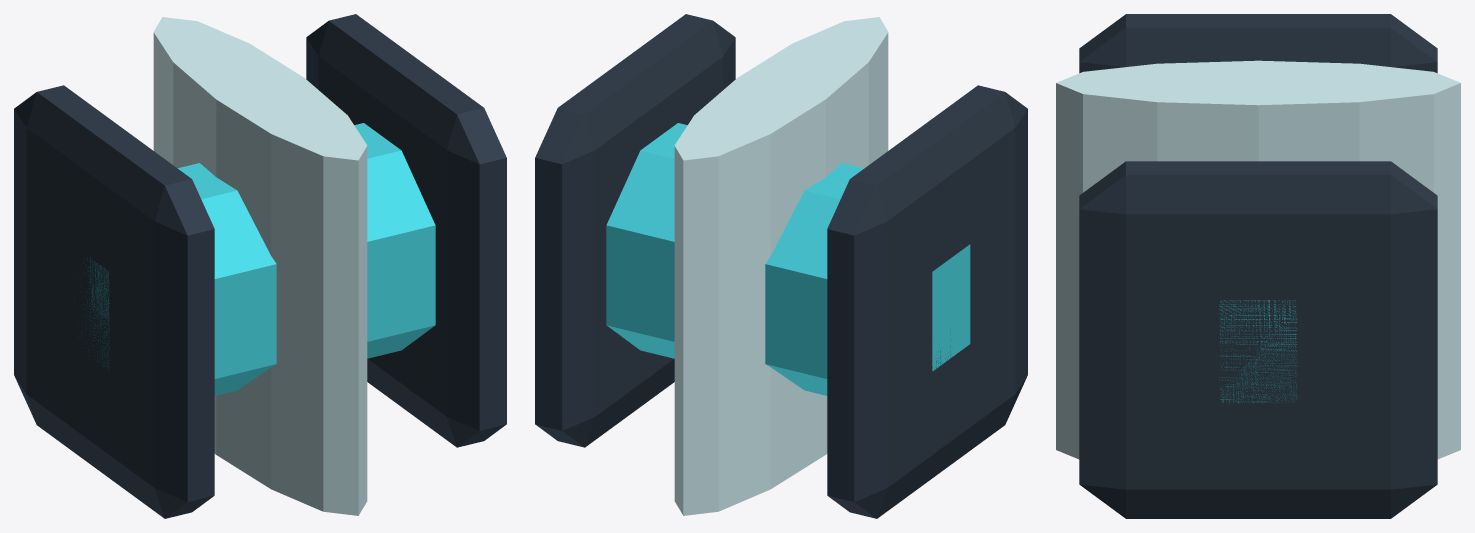
Rendered from RotatingArm.fbx.
3 renders of one model, left to right at view 1: azimuth 30°, elevation 25°; view 2: azimuth 150°, elevation 25°; view 3: azimuth 270°, elevation 25°, orthographic. The views are drawn at different scales.
Parts seen in each view (by area): view 1: EndGuard, Axle, EndGuard.001, Sweeper; view 2: EndGuard, Axle, EndGuard.001, Sweeper; view 3: EndGuard.001, Axle, EndGuard, Sweeper.
Part boxes in pixels (x1,y1,x2,y2): EndGuard: [14, 85, 214, 518]; Axle: [153, 17, 367, 515]; EndGuard.001: [306, 14, 506, 447]; Sweeper: [74, 123, 435, 395]; EndGuard: [827, 85, 1027, 518]; Axle: [674, 17, 888, 515]; EndGuard.001: [535, 14, 735, 447]; Sweeper: [606, 123, 970, 395]; EndGuard.001: [1079, 161, 1437, 518]; Axle: [1056, 60, 1460, 459]; EndGuard: [1079, 14, 1437, 73]; Sweeper: [1219, 300, 1297, 403].
Bounding box in the file's own units: 1 × 1 × 1.
